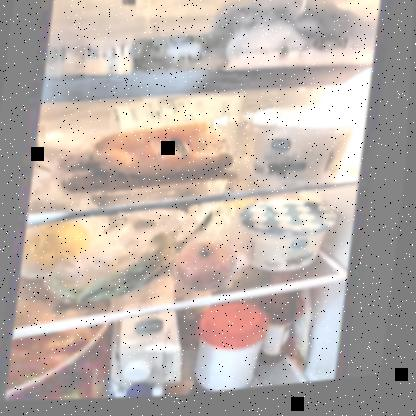butter: (129, 32, 228, 80)
carrot: (54, 117, 241, 200)
green_chillies: (52, 231, 182, 313)
lemon: (23, 218, 98, 276)
milk: (113, 319, 191, 404)
tomato: (176, 242, 243, 293)
yoghurt: (251, 107, 356, 196), (238, 200, 338, 282)
